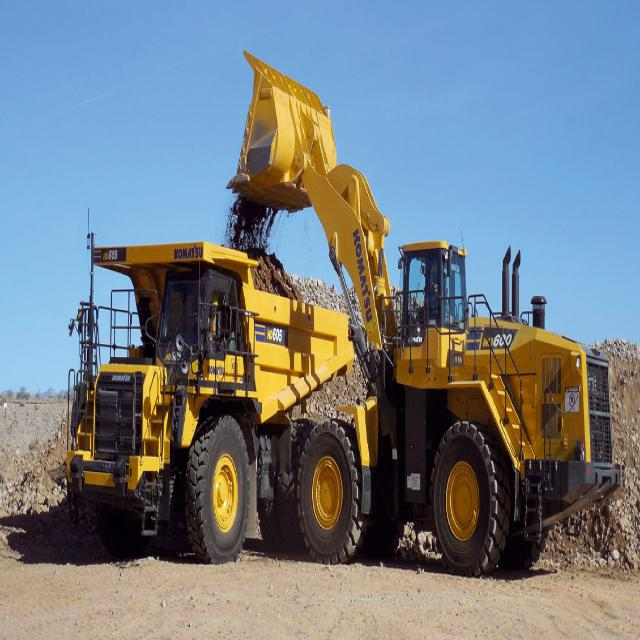buldozerpayloadergrader: (230, 43, 624, 574)
dump_truck: (61, 226, 340, 564)
